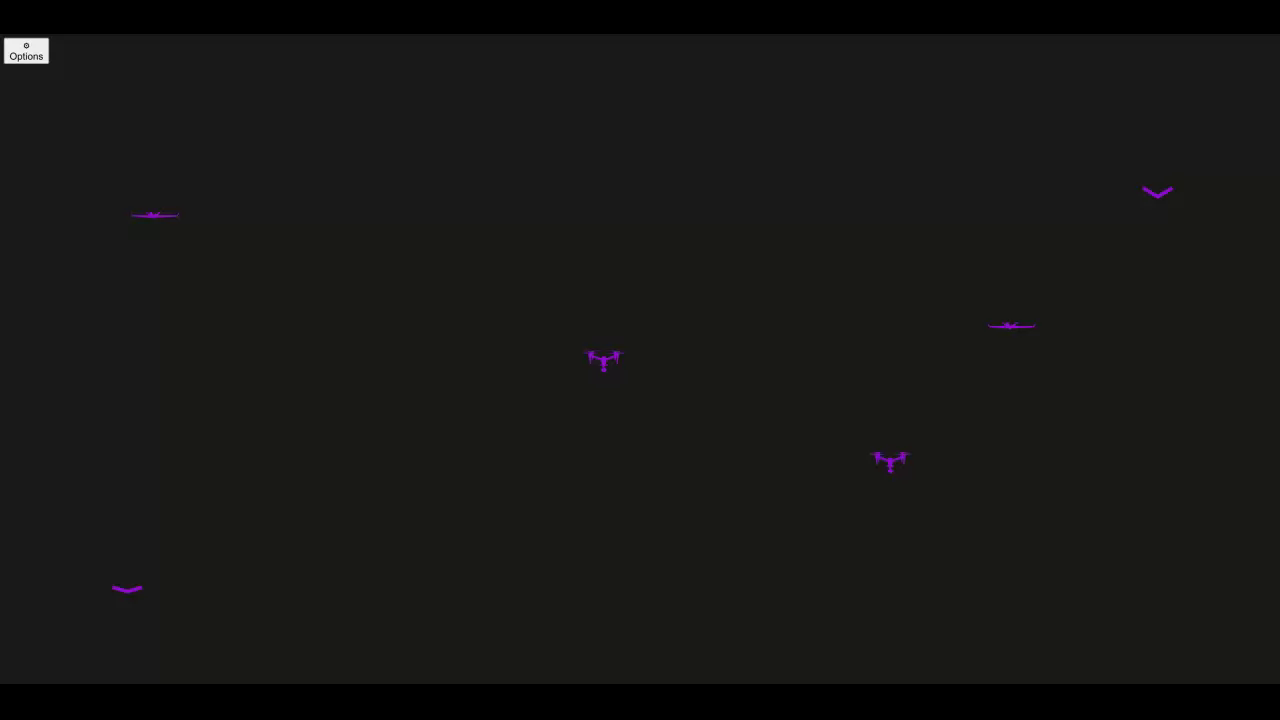Bird: (98, 576, 152, 611), (1133, 183, 1182, 217)
Drone: (981, 308, 1055, 349), (123, 195, 182, 232)
Quadcopter: (859, 440, 928, 483), (572, 337, 636, 382)
